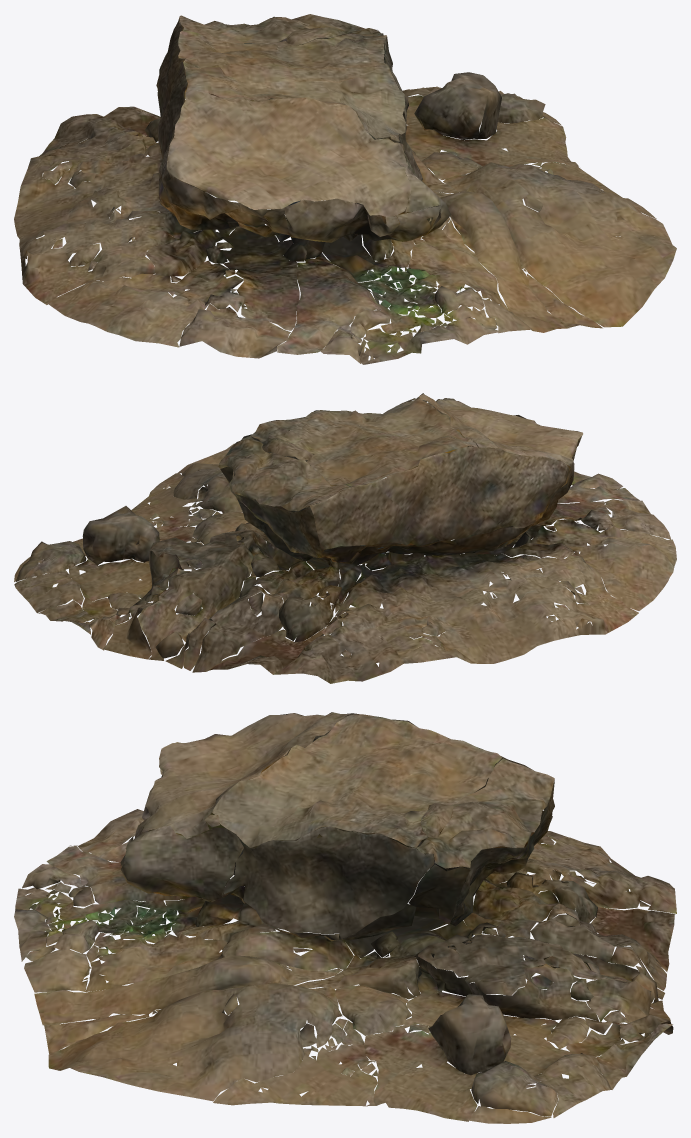
Rendered from coast_rock.glb.
3 renders of one model, top to bottom at view 1: azimuth 30°, elevation 25°; view 2: azimuth 150°, elevation 25°; view 3: azimuth 270°, elevation 25°, orthographic. The views are drawn at different scales.
Visible parts, largest first — view 1: coast_rocks_05; view 2: coast_rocks_05; view 3: coast_rocks_05.
Part boxes in pixels (<box>): coast_rocks_05: <box>14,14,676,364</box>; coast_rocks_05: <box>14,393,676,683</box>; coast_rocks_05: <box>14,712,676,1123</box>.
Bounding box in the file's own units: 4.03 × 1.33 × 3.75.
1 material, 1 textured.
